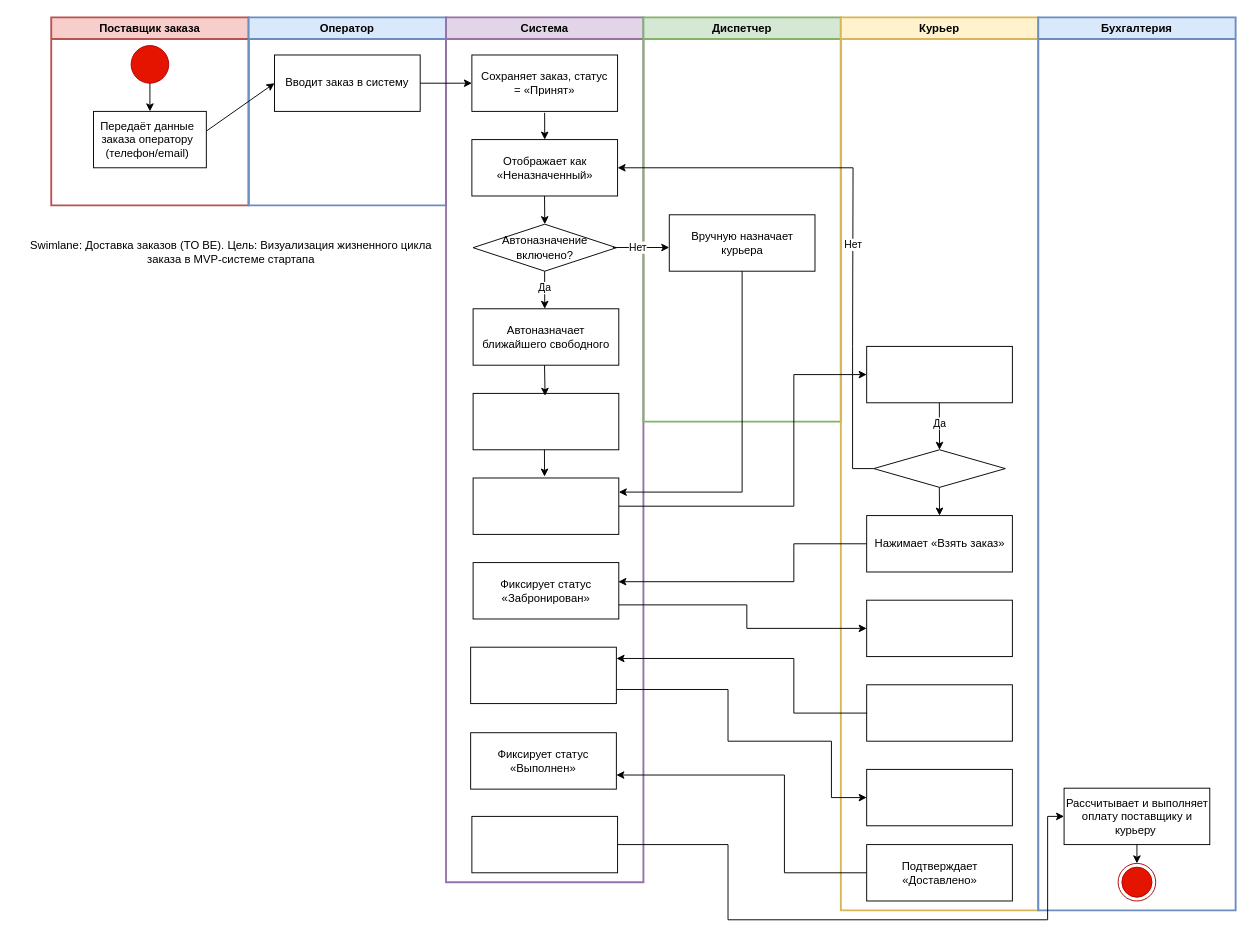
The diagram is 1252 pixels wide and 944 high, and some of its shapes have lost their labels. The centre of each missing label's shape, as x and y in pixels:
"Берёт заказ?" belongs at point 939,468.
"Видит новый заказ" belongs at point 939,374.
"Доставляет заказ" belongs at point 939,797.
"Едет в точку выдачи" belongs at point 939,628.
"Передаёт данные в Бухгалтерию" belongs at point 544,844.
"Подтверждает «Забрал»" belongs at point 939,712.
"Сохраняет назначение, статус = «Назначен»" belongs at point 545,421.
"Уведомляет курьера" belongs at point 545,505.
"Фиксирует статус «В пути»" belongs at point 543,675.
